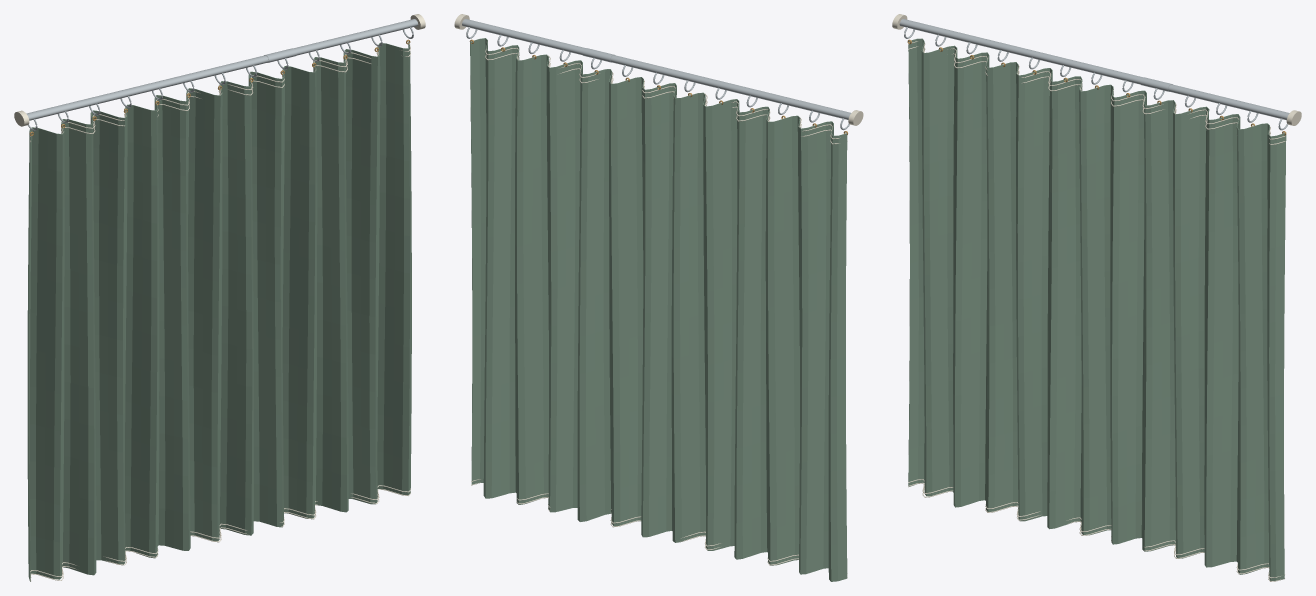
File: bath-shower-curtain.glb
3 views of the same model, side by side, from view 1: azimuth 30°, elevation 25°; view 2: azimuth 150°, elevation 25°; view 3: azimuth 330°, elevation 25° (orthographic).
Visible parts, largest first — view 1: bath-shower-curtain authored assembly; view 2: bath-shower-curtain authored assembly; view 3: bath-shower-curtain authored assembly.
Part boxes in pixels (bbox=[...]): bath-shower-curtain authored assembly: bbox=[14, 14, 425, 581]; bath-shower-curtain authored assembly: bbox=[454, 14, 863, 581]; bath-shower-curtain authored assembly: bbox=[892, 14, 1301, 581].
Size of the model in its own units: 1.6 by 1.8 by 0.12.
